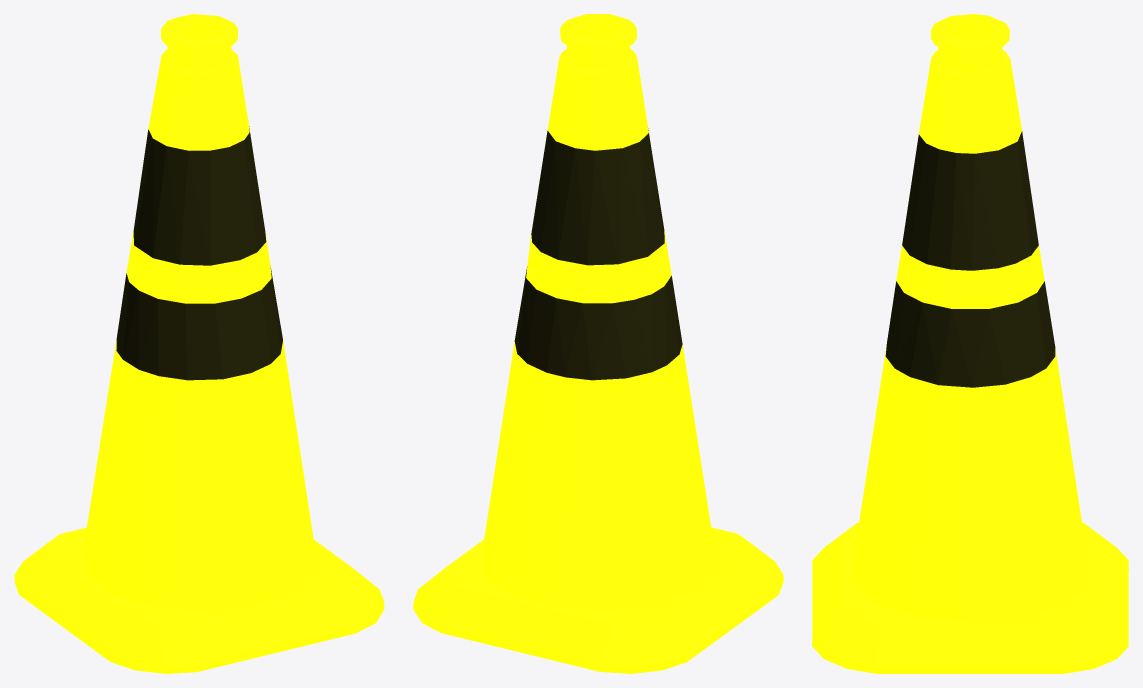
Rendered from cone_orange_big.dae.
3 views of the same model, side by side, from view 1: azimuth 30°, elevation 25°; view 2: azimuth 150°, elevation 25°; view 3: azimuth 270°, elevation 25° (orthographic).
Visible parts, largest first — view 1: _8_Inch; view 2: _8_Inch; view 3: _8_Inch.
Part boxes in pixels (box(x1,y1,x2,y2)): _8_Inch: box(14, 14, 384, 673); _8_Inch: box(413, 14, 783, 673); _8_Inch: box(812, 14, 1128, 673).
Bounding box in the file's own units: 0.2613 × 0.2613 × 0.5255.
